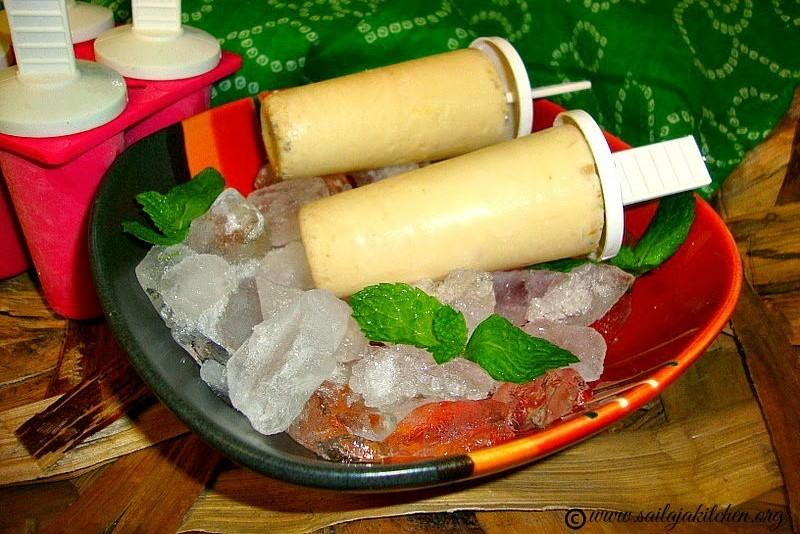Kulfi: (301, 127, 604, 296), (262, 51, 594, 182)
